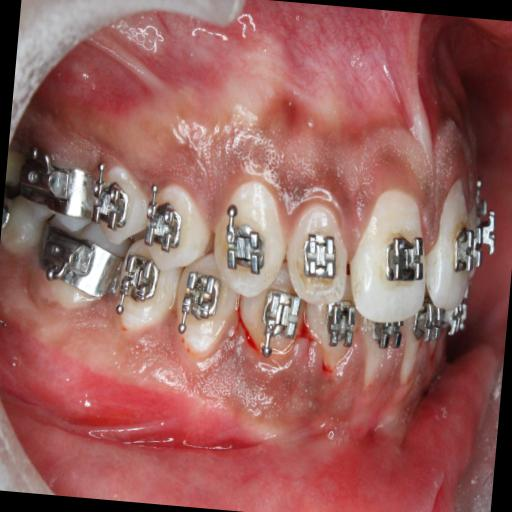correct_brace: (140, 174, 216, 268), (218, 208, 272, 281), (380, 228, 428, 292), (296, 228, 342, 288)
incorrect_brace: (282, 196, 352, 306), (144, 188, 190, 258)
